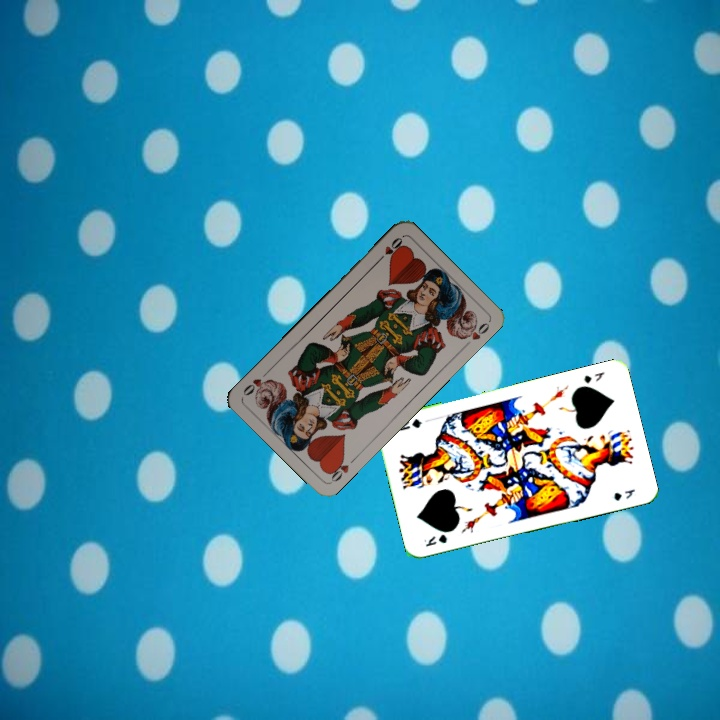GK: (420, 530, 450, 549), (580, 368, 607, 386)
HO: (324, 453, 359, 485), (373, 233, 405, 265)
